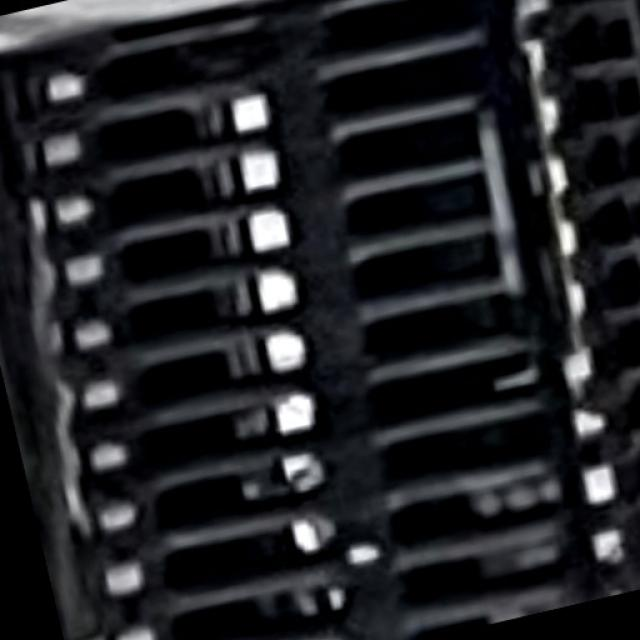igps: (0, 61, 640, 270), (0, 380, 640, 580), (0, 309, 600, 522), (52, 424, 640, 638), (0, 118, 576, 335), (0, 186, 597, 395), (0, 256, 598, 456), (0, 9, 578, 210), (0, 0, 616, 152), (90, 486, 638, 640)
